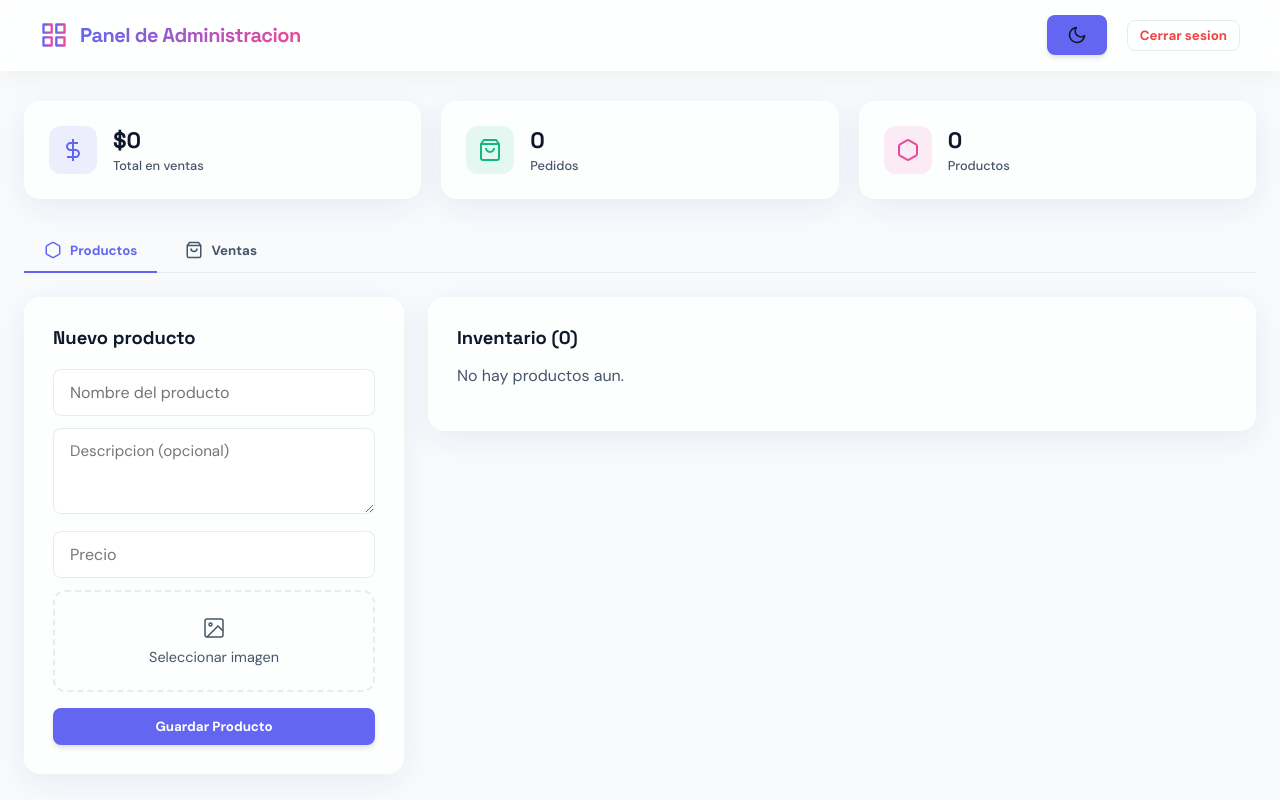
Test: Admin Component › Estadísticas y Ventas › ✓ HAPPY PATH: ver detalle de pedido
Click the button "Ventas".
click(221, 251)  # box [165,229,277,273]
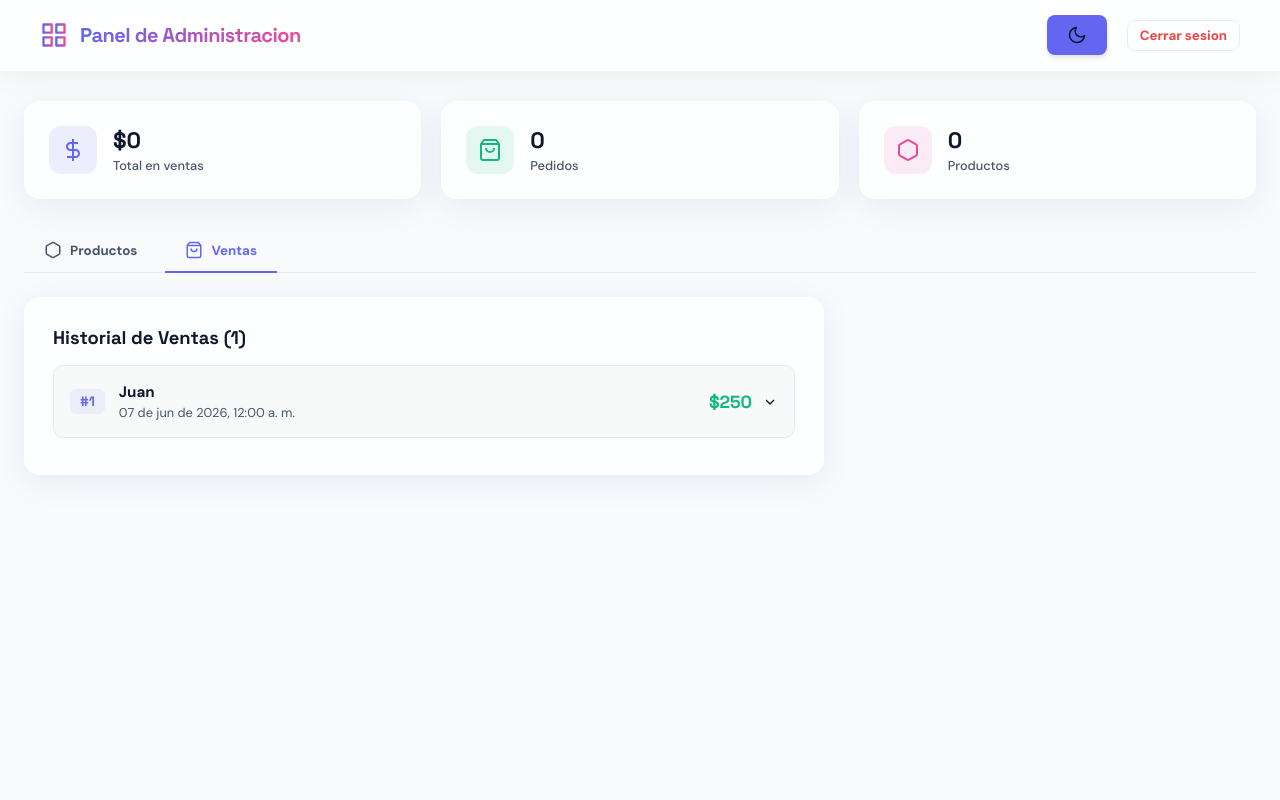
Now the text "Juan" is shown, box [119,382,155,402]
